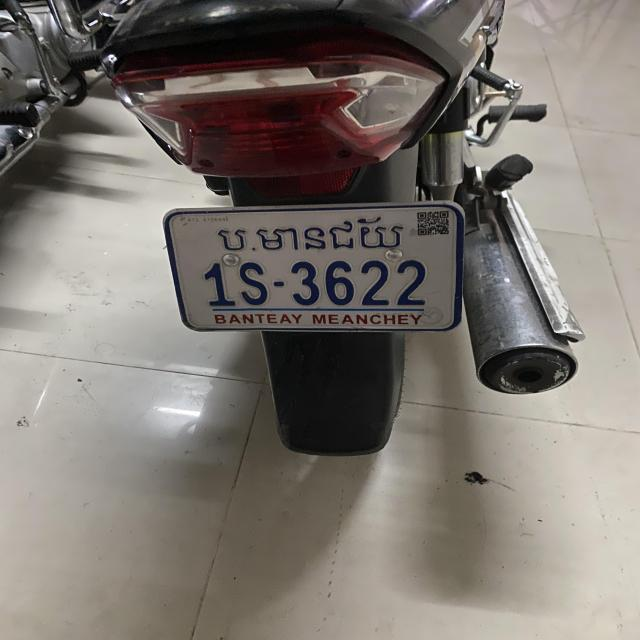Banteay_Meanchey: (214, 212, 406, 258)
